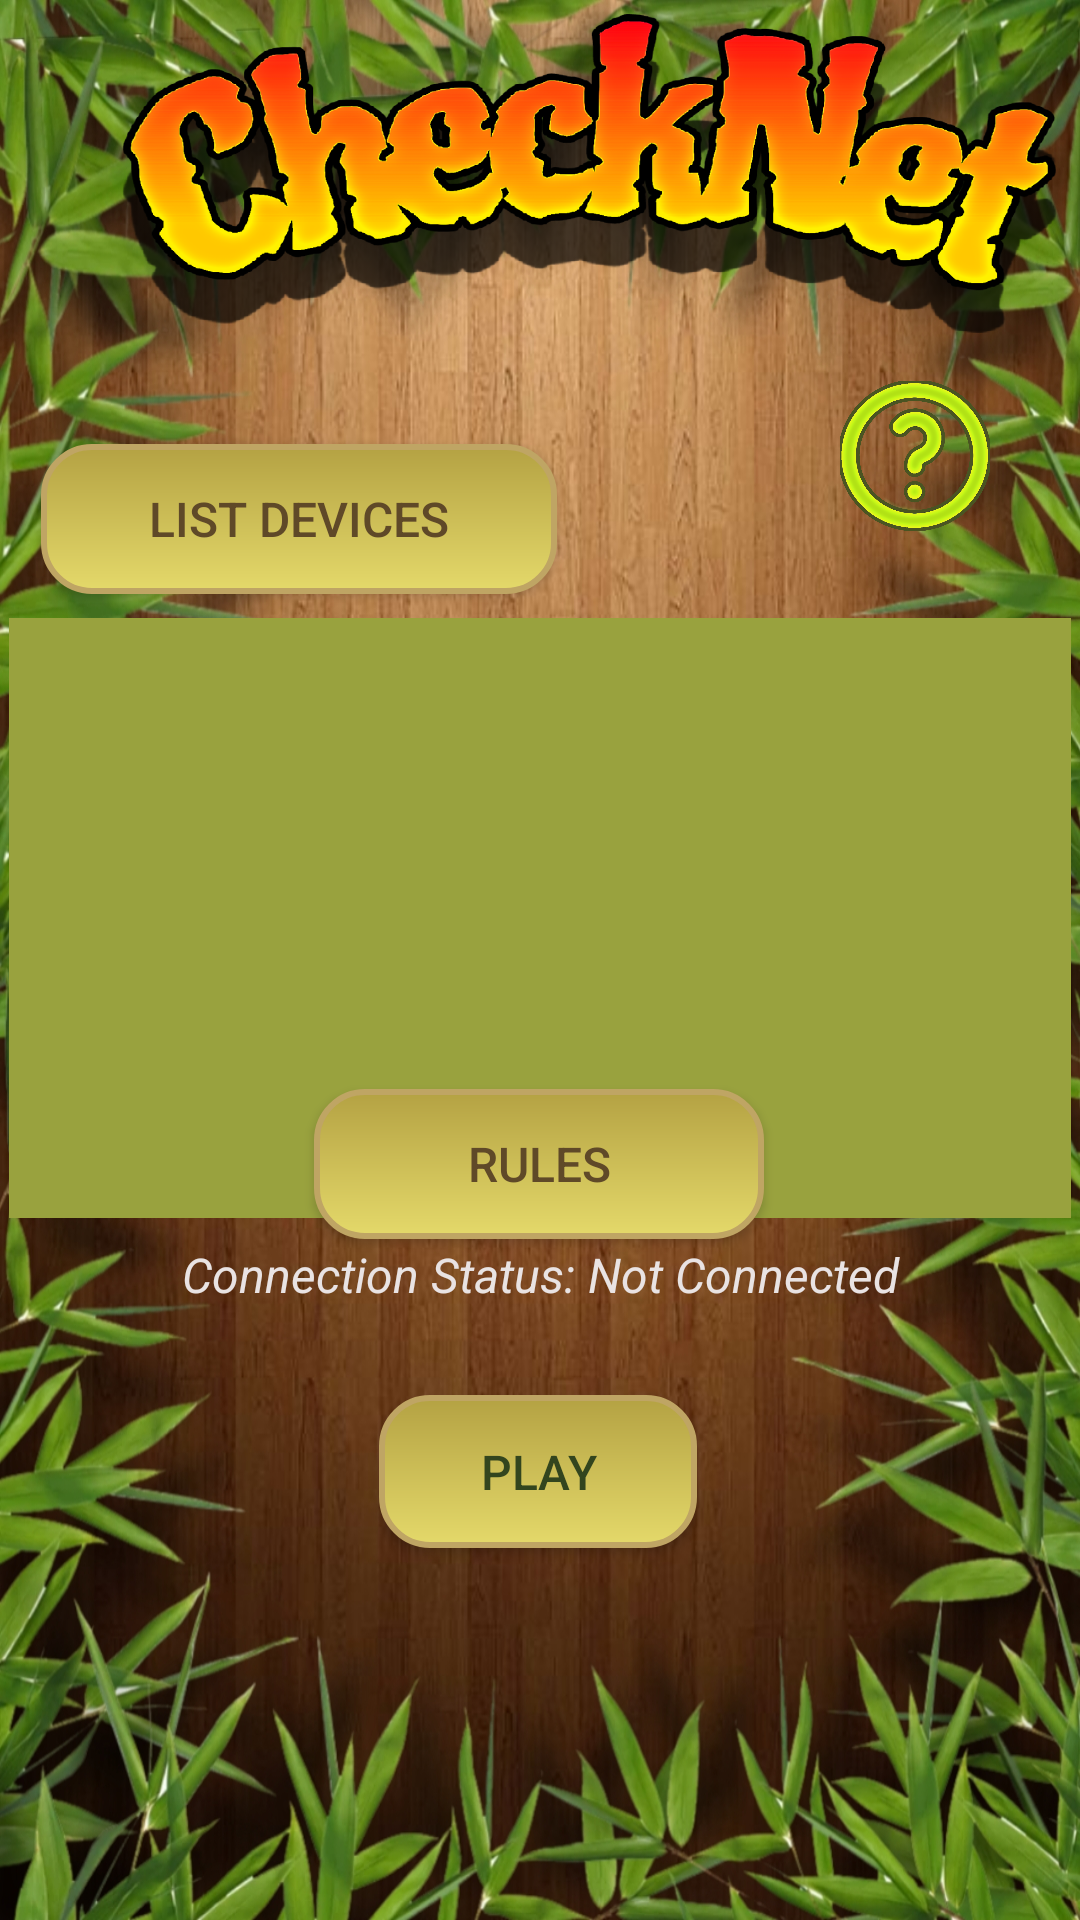

Icon click points for this 1080 × 1920 phone screenshot, format point (x, y):
Help: point (915, 456)
